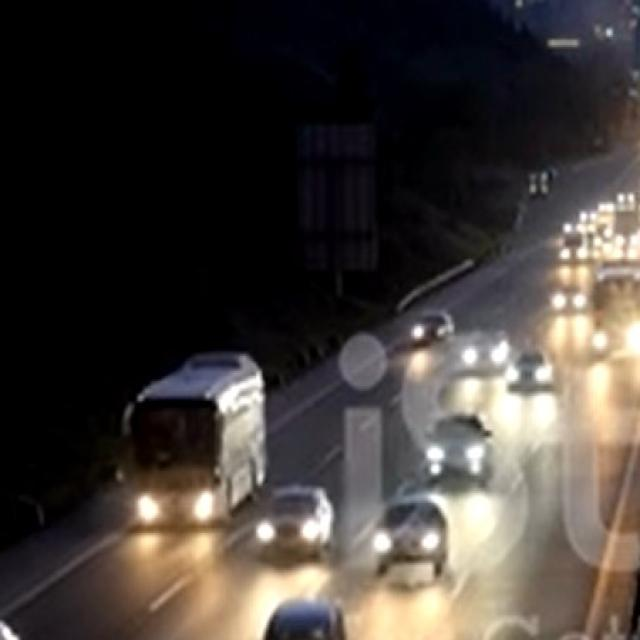bus: (111, 351, 264, 531)
car: (254, 475, 338, 557), (369, 500, 449, 576), (242, 593, 357, 640), (429, 414, 490, 485), (508, 349, 552, 397), (410, 308, 453, 349), (0, 608, 27, 640)
